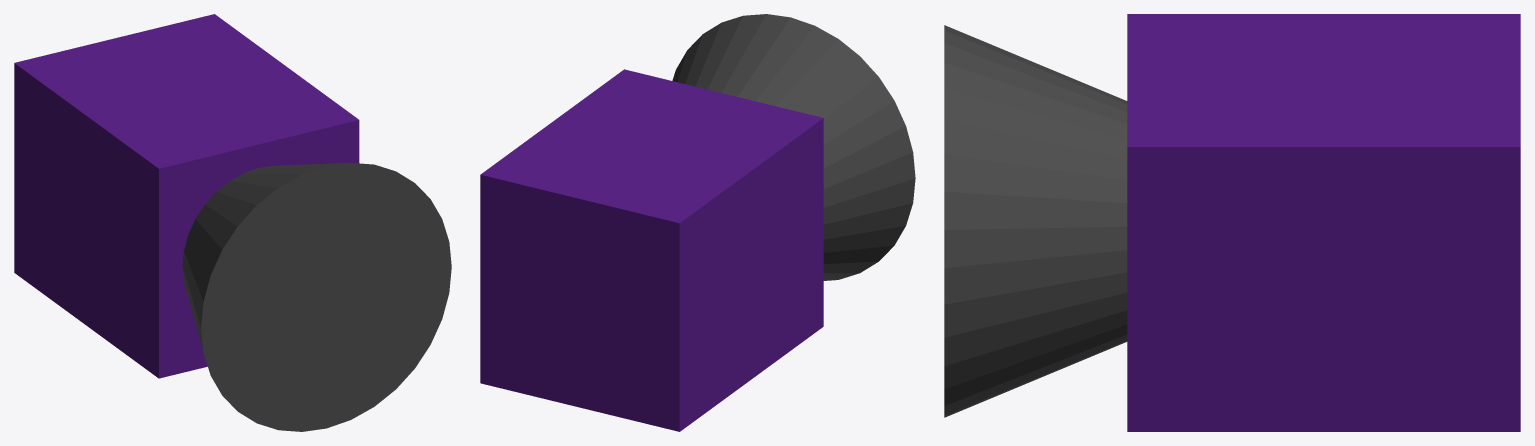
The model's file is simple_camera.dae.
3 renders of one model, left to right at view 1: azimuth 30°, elevation 25°; view 2: azimuth 150°, elevation 25°; view 3: azimuth 270°, elevation 25°, orthographic. The views are drawn at different scales.
Parts seen in each view (by area): view 1: Cube, Cone; view 2: Cube, Cone; view 3: Cube, Cone.
Boxes of the visible parts, x1,y1,x2,y2 form: Cube: (14,14,359,378); Cone: (182,163,451,431); Cube: (480,69,823,431); Cone: (672,14,915,280); Cube: (1127,14,1520,431); Cone: (944,25,1127,417).
Size of the model in its own units: 0.1 by 0.1465 by 0.1.
